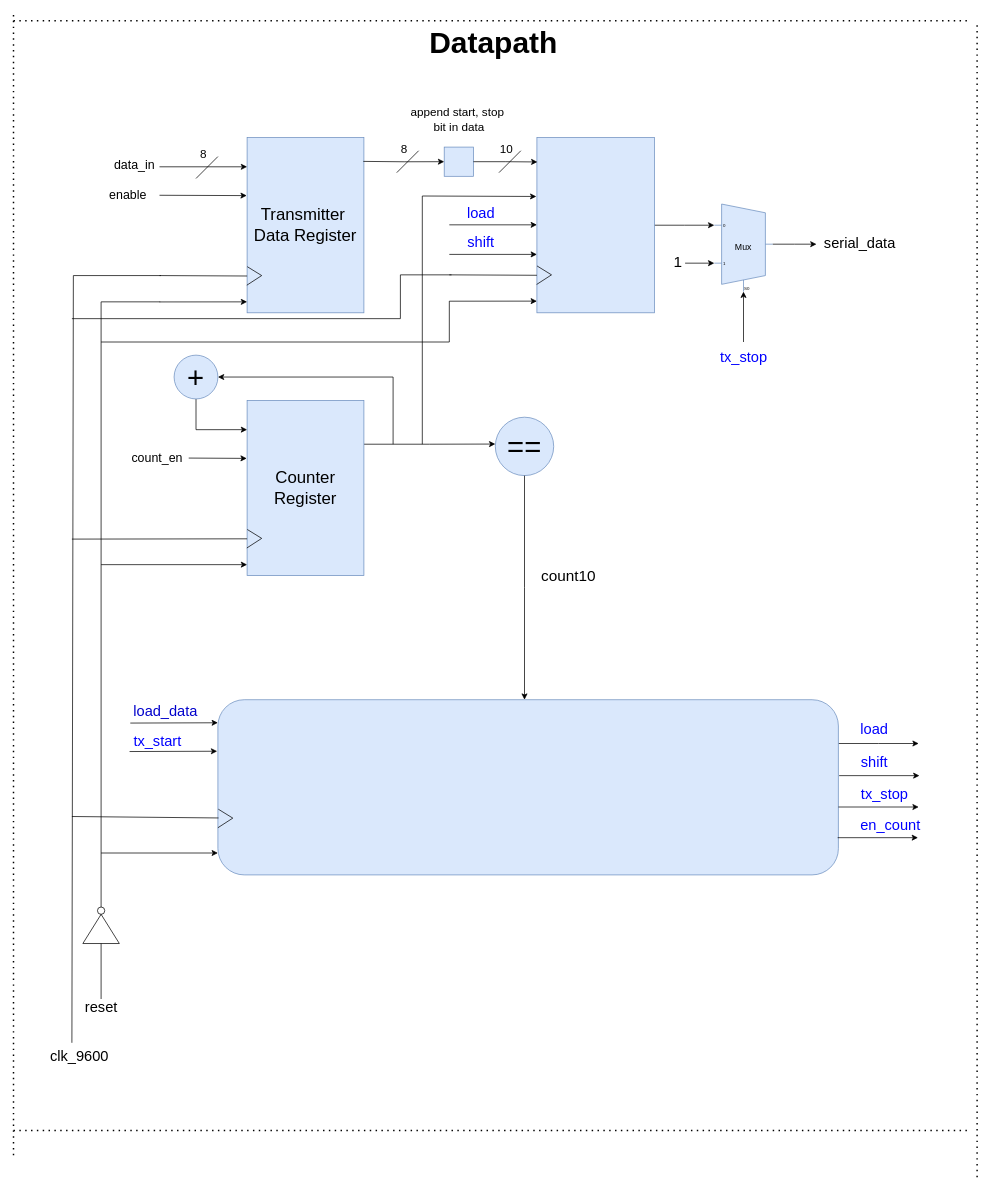
Some shapes in this 991 by 1191 pixel diagram are drawn without their labels. Each missing label, with the box of its shape:
1[d]0: (443, 146, 473, 176)
Controller: (217, 699, 838, 875)
Transmitter Shift Register: (536, 137, 654, 313)
